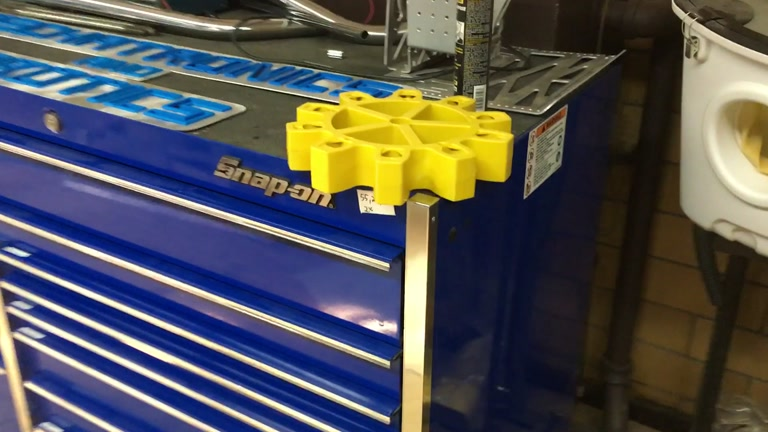gear: (284, 90, 515, 206)
